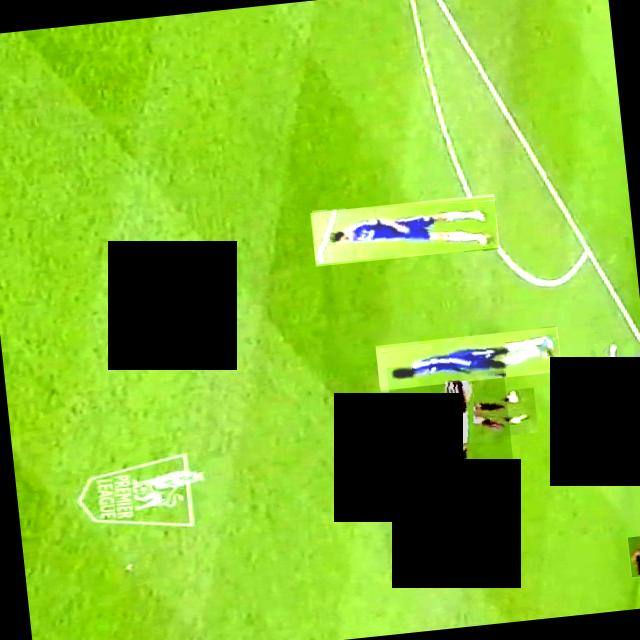soccer-player: (386, 354, 514, 480), (310, 192, 500, 265), (374, 325, 562, 389), (593, 338, 640, 389), (627, 532, 640, 576)
